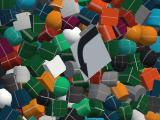Left: (70, 24, 112, 82)
